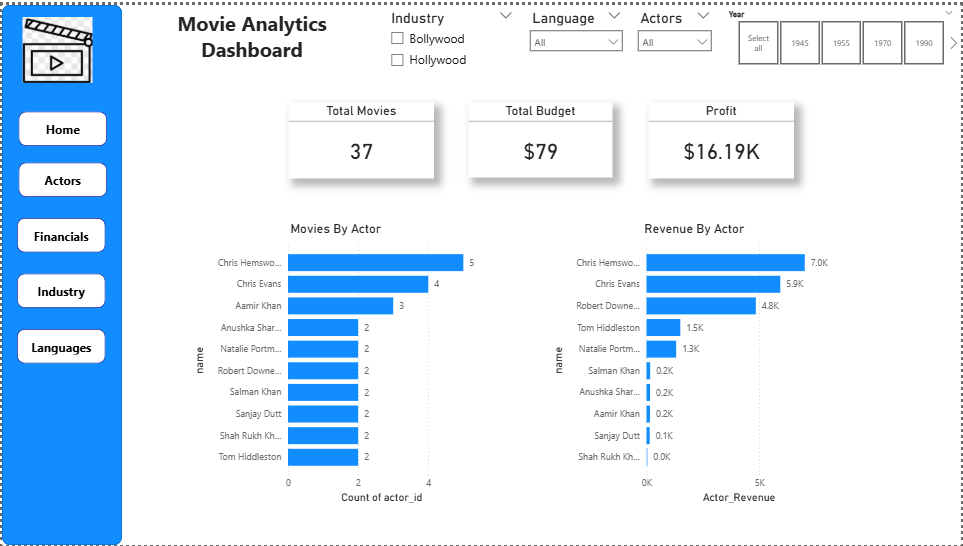

Layout of this report page (visuals, bound fields, positions):
{"tool":"powerbi","page":{"name":"Actor Analysis","canvas":[1280,720],"ordinal":2},"visuals":[{"type":"shape","box":[0,0,160,720],"z":0},{"type":"clusteredBarChart","title":"Movies By Actor","fields":{"Category":["movie_db actors.name"],"Y":["CountNonNull(movie_db movie_actor.actor_id)"]},"box":[250,288,390,380],"z":1000},{"type":"clusteredBarChart","title":"Revenue By Actor","fields":{"Category":["movie_db actors.name"],"Y":["movie_db actors.Actor_Revenue"]},"box":[728,288,390,380],"z":2000},{"type":"slicer","fields":{"Values":["movie_db movies.industry"]},"box":[506.7,0,186.7,103.3],"z":3000},{"type":"slicer","fields":{"Values":["movie_db languages.name"]},"box":[693.3,0,143.3,103.3],"z":4000},{"type":"slicer","fields":{"Values":["movie_db movies.Year_Group"]},"box":[956,0,324,86],"z":6000},{"type":"textbox","box":[160.1,0,346.4,103.3],"z":7000},{"type":"image","box":[10,16,128,88],"z":8000},{"type":"actionButton","title":"Financials","box":[22,142,118,46],"z":9000},{"type":"actionButton","title":"Financials","box":[22,210,118,46],"z":10000},{"type":"actionButton","title":"Financials","box":[20,284,118,46],"z":11000},{"type":"actionButton","title":"Financials","box":[20,358,118,46],"z":12000},{"type":"actionButton","title":"Financials","box":[20,432,118,46],"z":13000},{"type":"slicer","fields":{"Values":["movie_db actors.name"]},"box":[838,0,118,104],"z":14000},{"type":"card","title":"Total Movies","fields":{"Values":["movie_db actors.Total_Movies_By_Actor"]},"box":[382.1,129.5,194.2,101.1],"z":15000},{"type":"card","title":"Total Budget","fields":{"Values":["CountNonNull(movie_db movie_actor.actor_id)"]},"box":[622,130,192,100],"z":16000},{"type":"card","title":"Profit","fields":{"Values":["movie_db actors.Profit_By_Actor"]},"box":[862.1,129.5,194.2,101.1],"z":17000}]}

Visuals, with their boxes in screenshot pixels (x1, y1, x2, y2), scaled from the page's 1280x720 canvas onto the 963x546 screenshot:
shape: [left=0, top=0, right=120, bottom=545]
"Movies By Actor" clusteredBarChart: [left=188, top=218, right=482, bottom=507]
"Revenue By Actor" clusteredBarChart: [left=548, top=218, right=841, bottom=507]
slicer - movie_db movies.industry: [left=381, top=0, right=522, bottom=78]
slicer - movie_db languages.name: [left=522, top=0, right=629, bottom=78]
slicer - movie_db movies.Year_Group: [left=719, top=0, right=962, bottom=65]
textbox: [left=120, top=0, right=381, bottom=78]
image: [left=8, top=12, right=104, bottom=79]
"Financials" actionButton: [left=17, top=108, right=105, bottom=143]
"Financials" actionButton: [left=17, top=159, right=105, bottom=194]
"Financials" actionButton: [left=15, top=215, right=104, bottom=250]
"Financials" actionButton: [left=15, top=271, right=104, bottom=306]
"Financials" actionButton: [left=15, top=328, right=104, bottom=362]
slicer - movie_db actors.name: [left=630, top=0, right=719, bottom=79]
"Total Movies" card: [left=287, top=98, right=434, bottom=175]
"Total Budget" card: [left=468, top=99, right=612, bottom=174]
"Profit" card: [left=649, top=98, right=795, bottom=175]
